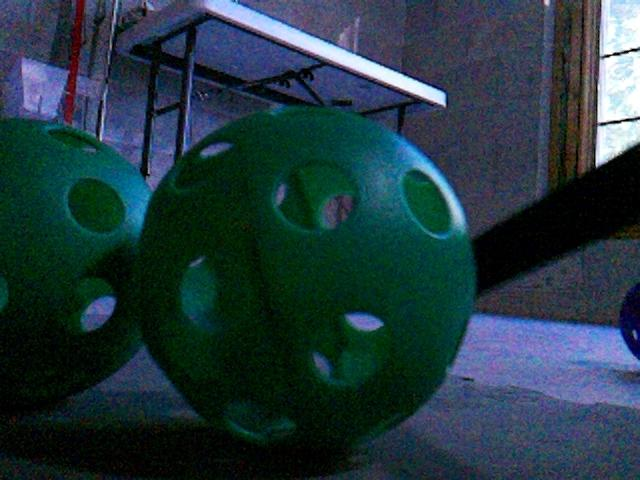Green: (135, 113, 469, 450), (0, 119, 157, 415)
Purple: (620, 280, 640, 364)
